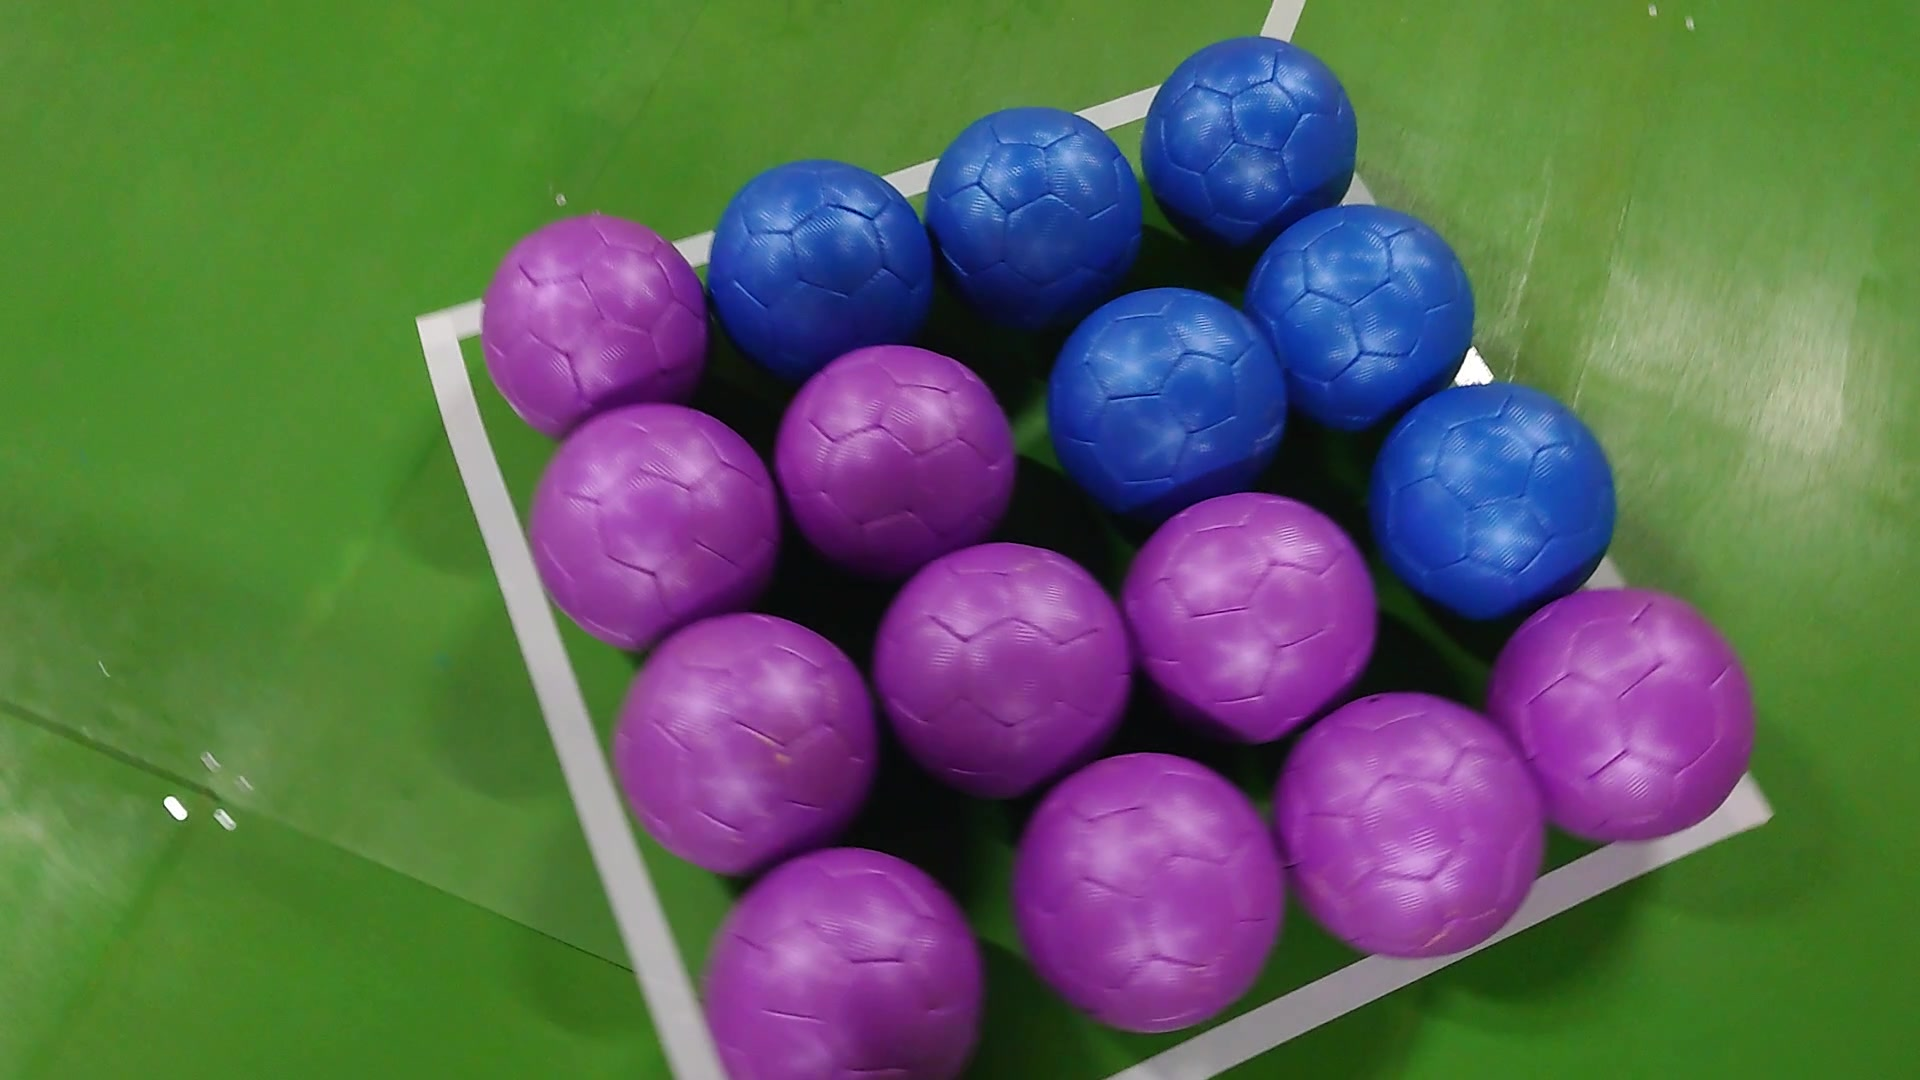blue: (1369, 378, 1619, 626), (1044, 281, 1294, 520), (1241, 203, 1476, 434), (705, 157, 938, 352), (1143, 36, 1358, 241), (924, 108, 1146, 307)
purple: (1015, 752, 1276, 1038), (1280, 688, 1548, 960), (611, 615, 882, 882), (699, 845, 982, 1080), (1117, 489, 1378, 738), (1499, 588, 1756, 839), (876, 539, 1137, 783), (529, 398, 777, 650), (770, 340, 1019, 575), (477, 215, 708, 425), (646, 385, 659, 402)
